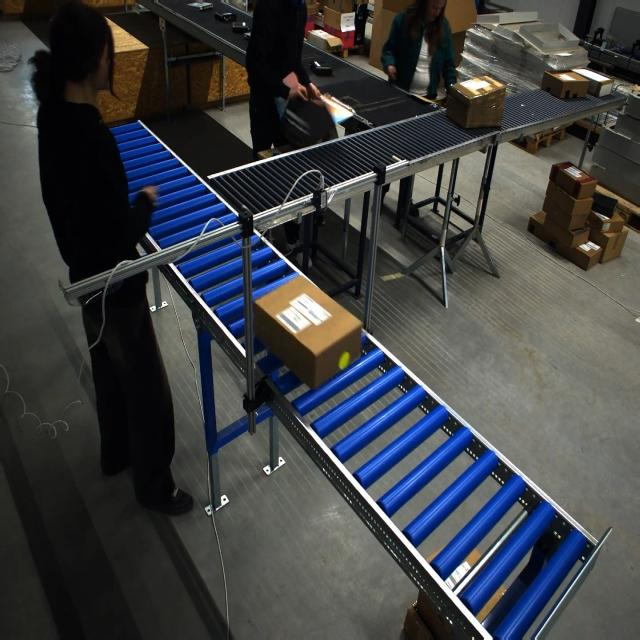box: (252, 276, 353, 388), (446, 75, 506, 129), (519, 20, 582, 55)
product: (309, 61, 332, 77), (186, 1, 213, 11), (214, 11, 236, 22), (232, 22, 250, 33), (243, 32, 251, 40)
